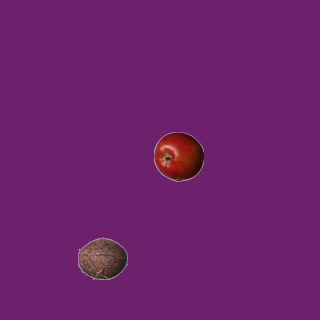Apple Braeburn: (153, 131, 203, 181)
Cocos: (77, 233, 127, 283)
